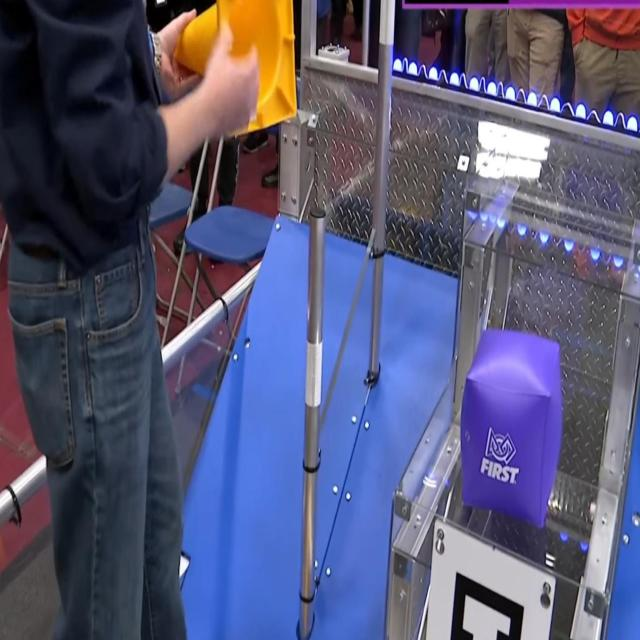frc_cone: (170, 0, 300, 138)
frc_cube: (462, 328, 564, 527)
